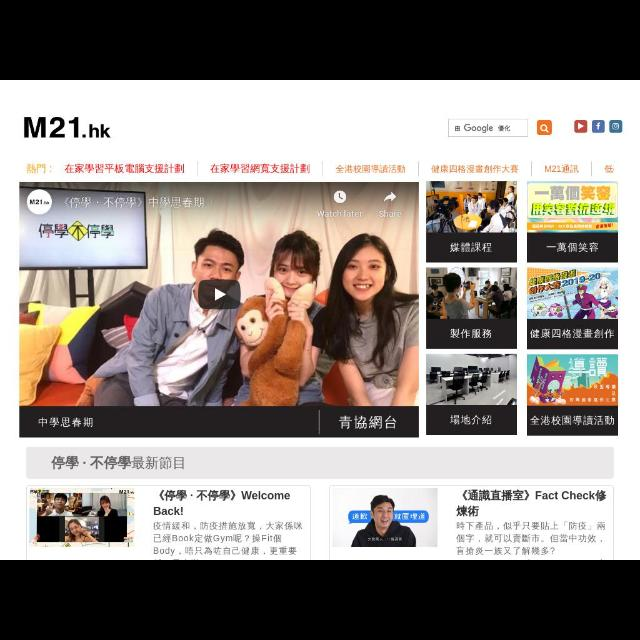image: (20, 182, 418, 406), (330, 486, 438, 548), (30, 487, 134, 549), (426, 180, 518, 232), (528, 180, 620, 232), (528, 267, 618, 319), (426, 267, 516, 317), (427, 354, 517, 404), (528, 355, 618, 405), (22, 115, 112, 143), (538, 119, 552, 135), (574, 120, 588, 136), (610, 120, 622, 134), (592, 120, 604, 132)
multitab: (21, 158, 619, 180)
text: (154, 522, 302, 556), (458, 522, 608, 554), (458, 488, 608, 518), (154, 489, 290, 515), (52, 456, 186, 474), (64, 162, 186, 174), (210, 165, 310, 178), (530, 328, 616, 342), (432, 164, 520, 176), (338, 414, 396, 432), (530, 417, 616, 428), (336, 164, 406, 176), (452, 123, 514, 135), (37, 416, 95, 428), (546, 242, 602, 254), (449, 413, 493, 427), (449, 326, 491, 339), (544, 162, 580, 174), (450, 242, 492, 252), (27, 162, 48, 174), (603, 164, 615, 172)
textbutton: (449, 119, 528, 137)
